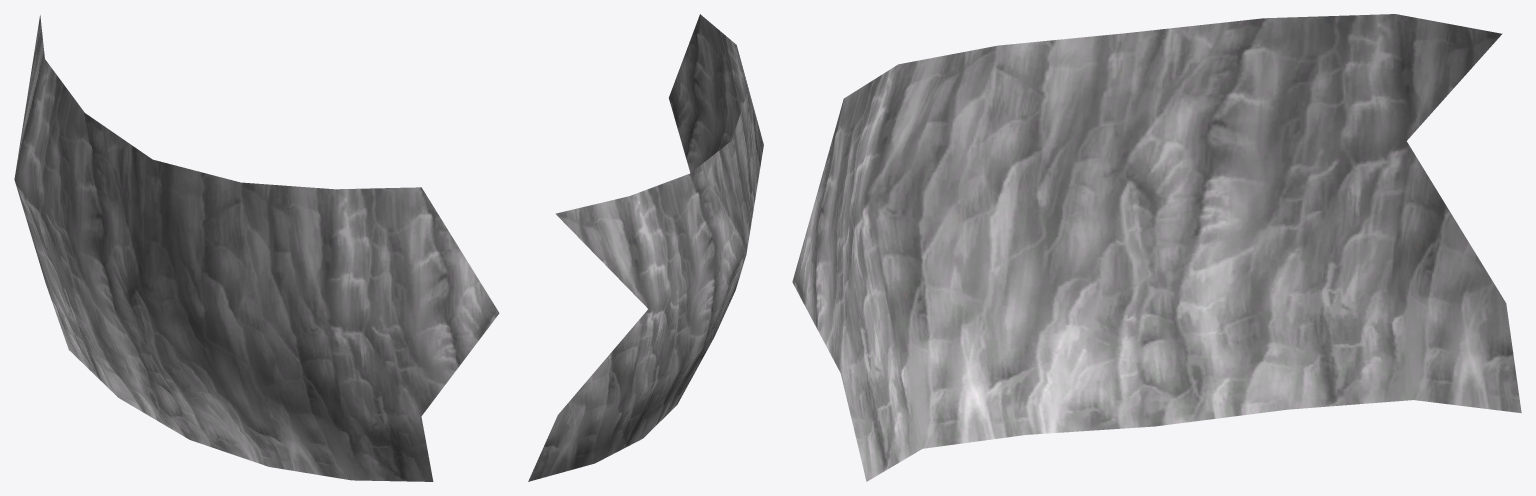
The model's file is SWORDLIGHT20_PS-AREA03_82.fbx.
3 views of the same model, side by side, from view 1: azimuth 30°, elevation 25°; view 2: azimuth 150°, elevation 25°; view 3: azimuth 270°, elevation 25° (orthographic). The views are drawn at different scales.
Parts seen in each view (by area): view 1: SWORDLIGHT20_PS-AREA03_82; view 2: SWORDLIGHT20_PS-AREA03_82; view 3: SWORDLIGHT20_PS-AREA03_82.
Part boxes in pixels (box(x1,y1,x2,y2)): SWORDLIGHT20_PS-AREA03_82: box(14, 15, 499, 481); SWORDLIGHT20_PS-AREA03_82: box(528, 14, 763, 481); SWORDLIGHT20_PS-AREA03_82: box(792, 14, 1521, 481).
Size of the model in its own units: 51113 by 68076 by 115566.
1 material, 1 textured.
